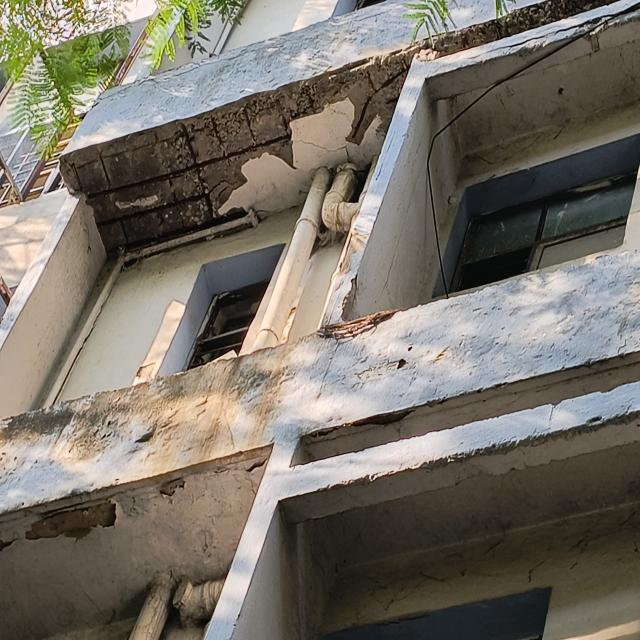crack: (436, 5, 640, 74), (296, 135, 357, 166)
peeling: (26, 501, 116, 540), (331, 214, 369, 280), (148, 473, 191, 511)
spalling: (60, 46, 420, 257)
stain_mould: (0, 331, 317, 517)
